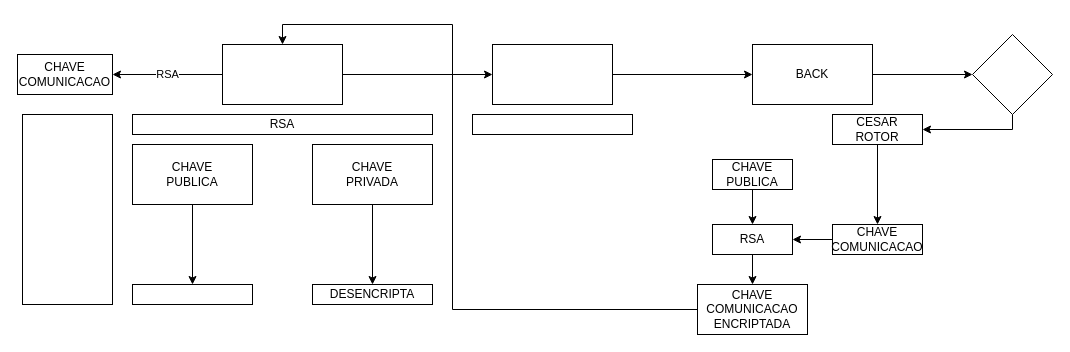
The diagram is 1070 pixels wide and 352 high, and some of its shapes have lost their labels. The box of each missing label's shape, as (x1, y1, x2, y2) in pixels:
AES: (472, 114, 632, 134)
AUTENTICA: (972, 34, 1052, 114)
CRIPTO ASSIMETRICA: (22, 114, 112, 304)
ENCRIPTA: (132, 284, 252, 304)
FRONT: (222, 44, 342, 104)
USERNAME PASSWORD CHAVE PUBLICA: (492, 44, 612, 104)
